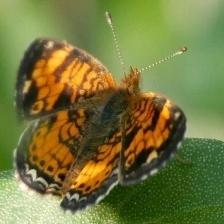butterfly: (15, 39, 187, 212)
